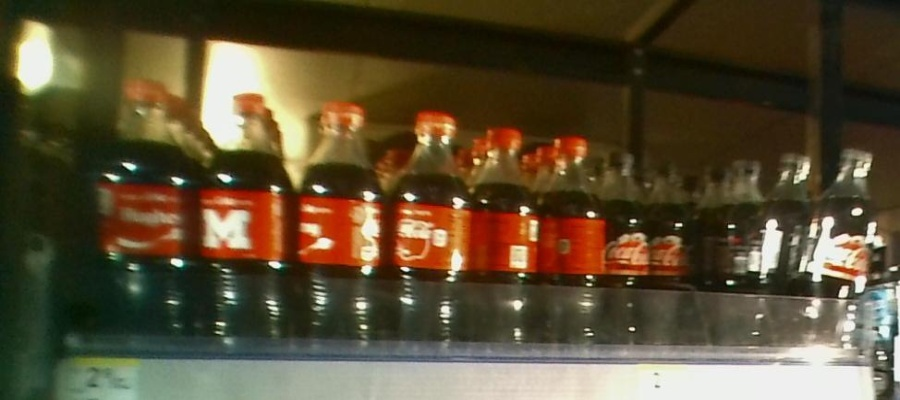bottle: (92, 64, 192, 355), (195, 86, 290, 354), (293, 91, 383, 358), (390, 100, 474, 359), (477, 109, 540, 358), (543, 124, 603, 364), (807, 145, 872, 348), (646, 158, 692, 340), (606, 149, 645, 361)
